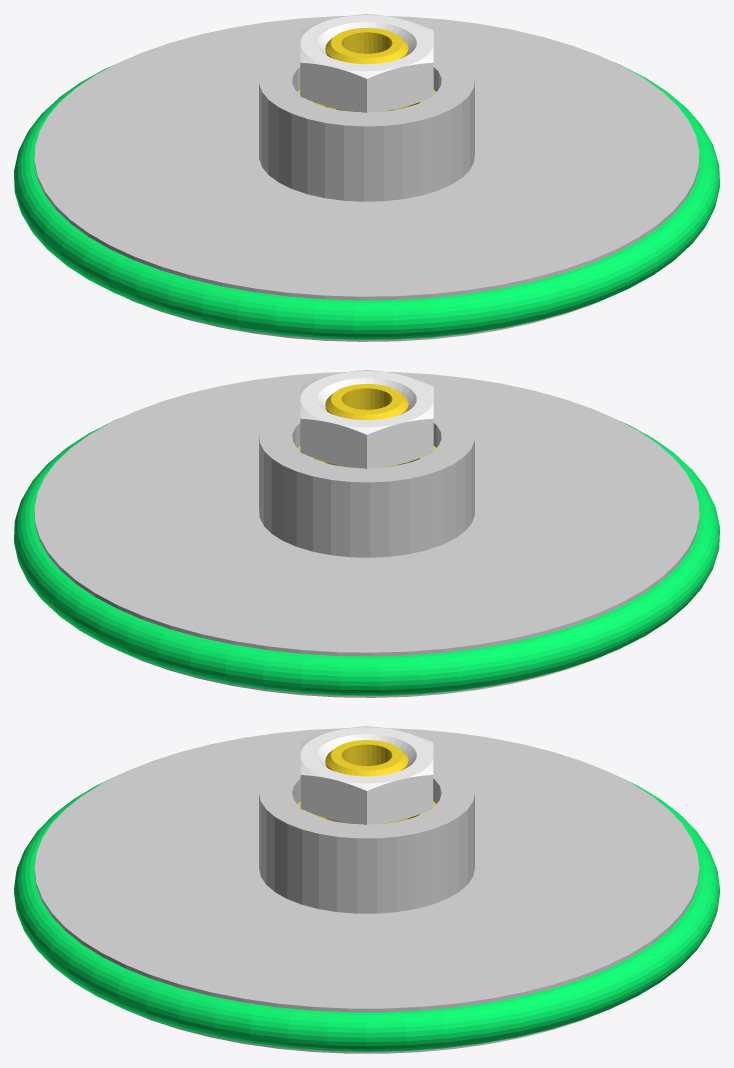
The model's file is epuck_wheel.dae.
The picture shows the model from 3 angles, top to bottom: view 1: azimuth 30°, elevation 25°; view 2: azimuth 150°, elevation 25°; view 3: azimuth 270°, elevation 25°; orthographic projection.
Visible parts, largest first — view 1: node1, node2, node3, node5; view 2: node1, node2, node3, node5; view 3: node1, node2, node3, node5.
Boxes of the visible parts, left/top/right/bottom form: node1: left=34, top=16, right=699, bottom=341; node2: left=14, top=62, right=719, bottom=339; node3: left=300, top=14, right=433, bottom=112; node5: left=325, top=28, right=408, bottom=111; node1: left=34, top=372, right=699, bottom=697; node2: left=14, top=418, right=719, bottom=695; node3: left=300, top=370, right=433, bottom=468; node5: left=325, top=384, right=408, bottom=467; node1: left=34, top=728, right=699, bottom=1053; node2: left=14, top=774, right=719, bottom=1051; node3: left=300, top=726, right=433, bottom=824; node5: left=325, top=740, right=408, bottom=823.
Size of the model in its own units: 0.0425 by 0.0425 by 0.014.
